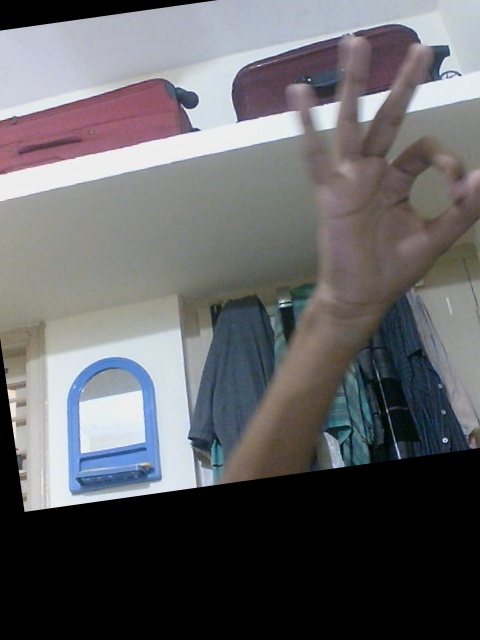hand: (287, 30, 480, 318)
